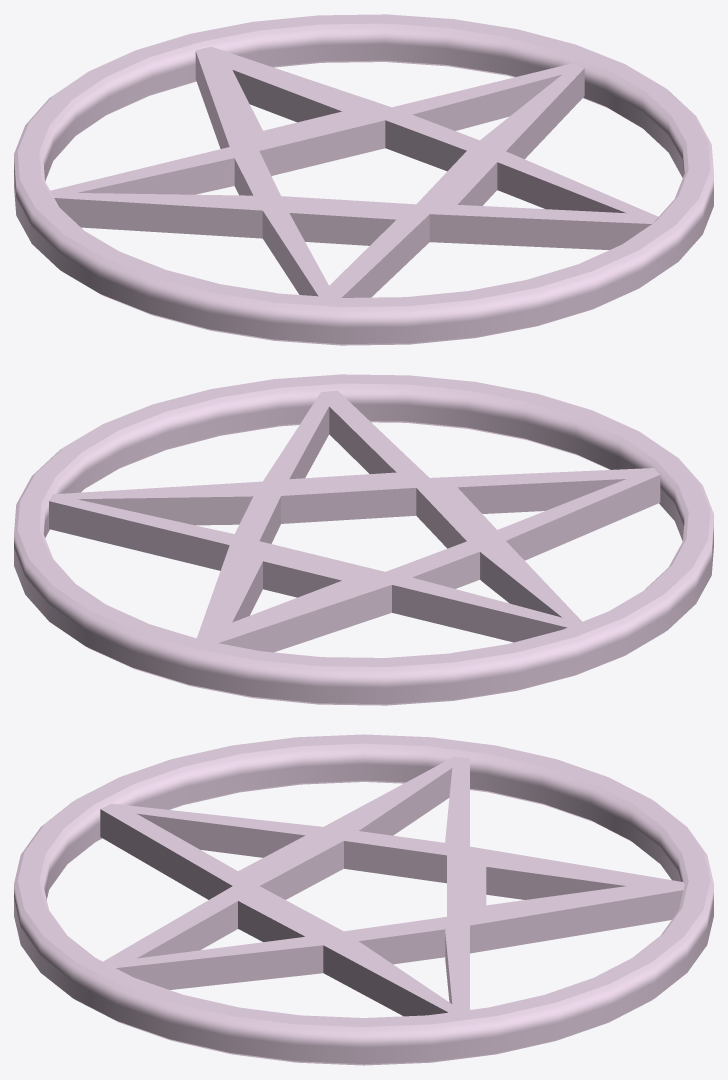
The model's file is Pentagram.fbx.
The picture shows the model from 3 angles, top to bottom: view 1: azimuth 30°, elevation 25°; view 2: azimuth 150°, elevation 25°; view 3: azimuth 270°, elevation 25°; orthographic projection.
Parts seen in each view (by area): view 1: Pentagram; view 2: Pentagram; view 3: Pentagram.
Boxes of the visible parts, <box> form: Pentagram: <box>14,14,713,345</box>; Pentagram: <box>14,374,713,705</box>; Pentagram: <box>14,734,713,1065</box>.
Bounding box in the file's own units: 256 × 15.48 × 256.
